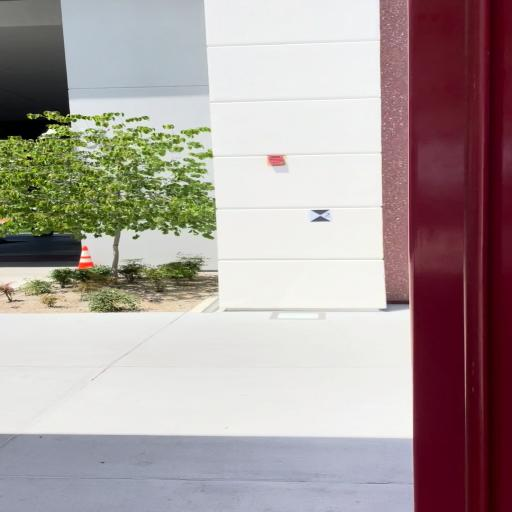target2: (309, 210, 332, 222)
